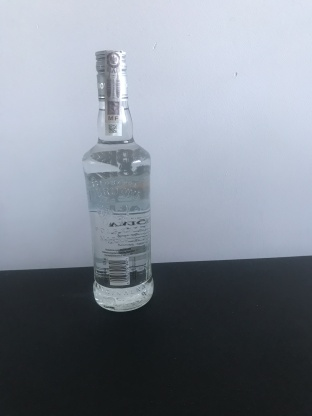nakretka: (92, 46, 130, 103)
